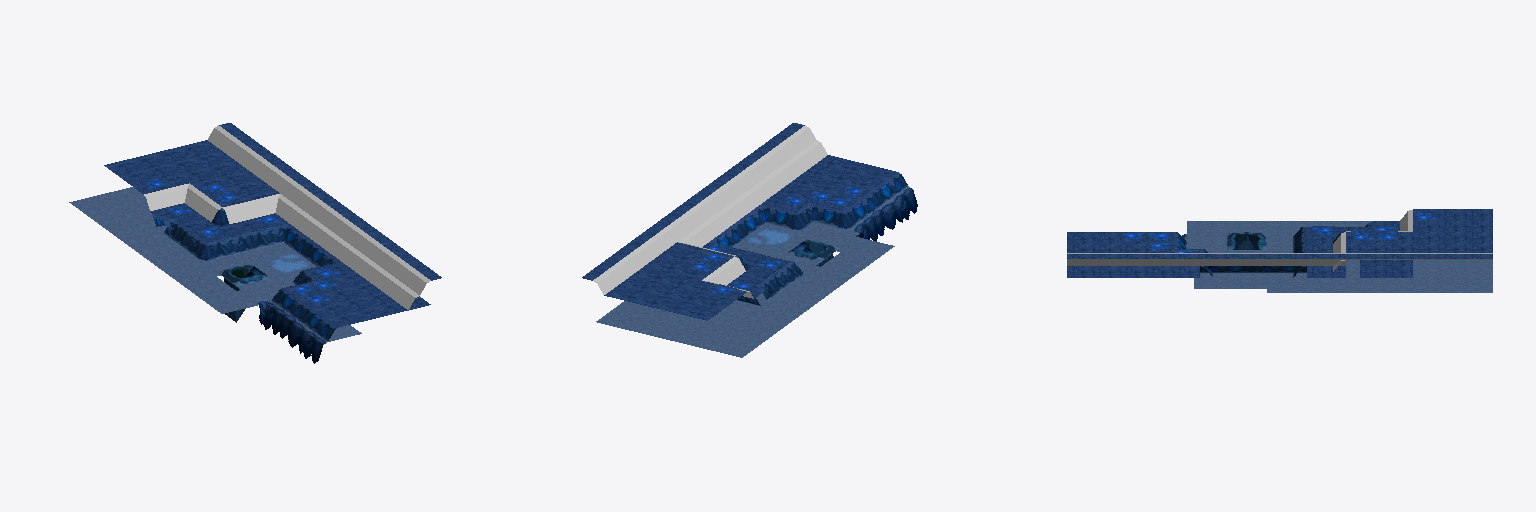
3 renders of one model, left to right at view 1: azimuth 30°, elevation 25°; view 2: azimuth 150°, elevation 25°; view 3: azimuth 270°, elevation 25°, orthographic.
Parts seen in each view (by area): view 1: polygon1, polygon7, polygon0, polygon2, polygon12, polygon8, polygon11, polygon4, polygon13; view 2: polygon1, polygon0, polygon7, polygon8, polygon12, polygon11, polygon2, polygon13, polygon4; view 3: polygon1, polygon0, polygon7, polygon12, polygon8, polygon4.
Boxes of the visible parts, <box> form: polygon1: <box>104,123,441,326</box>; polygon7: <box>144,125,430,309</box>; polygon0: <box>69,187,361,341</box>; polygon2: <box>151,212,319,284</box>; polygon12: <box>139,177,342,304</box>; polygon8: <box>275,224,340,341</box>; polygon11: <box>257,299,326,363</box>; polygon4: <box>217,264,269,322</box>; polygon13: <box>260,251,316,275</box>; polygon1: <box>582,123,895,320</box>; polygon0: <box>596,222,894,357</box>; polygon7: <box>593,125,827,298</box>; polygon8: <box>709,172,908,247</box>; polygon12: <box>688,185,867,297</box>; polygon11: <box>850,187,917,241</box>; polygon2: <box>732,202,813,300</box>; polygon13: <box>742,225,798,249</box>; polygon4: <box>787,239,839,266</box>; polygon1: <box>1067,209,1492,277</box>; polygon0: <box>1185,221,1492,292</box>; polygon7: <box>1067,210,1492,271</box>; polygon12: <box>1122,211,1437,252</box>; polygon8: <box>1067,232,1306,277</box>; polygon4: <box>1227,232,1266,249</box>.
Bounding box in the file's own units: 3.5 × 1.5 × 8.
Materials: 14 (13 with a texture image).